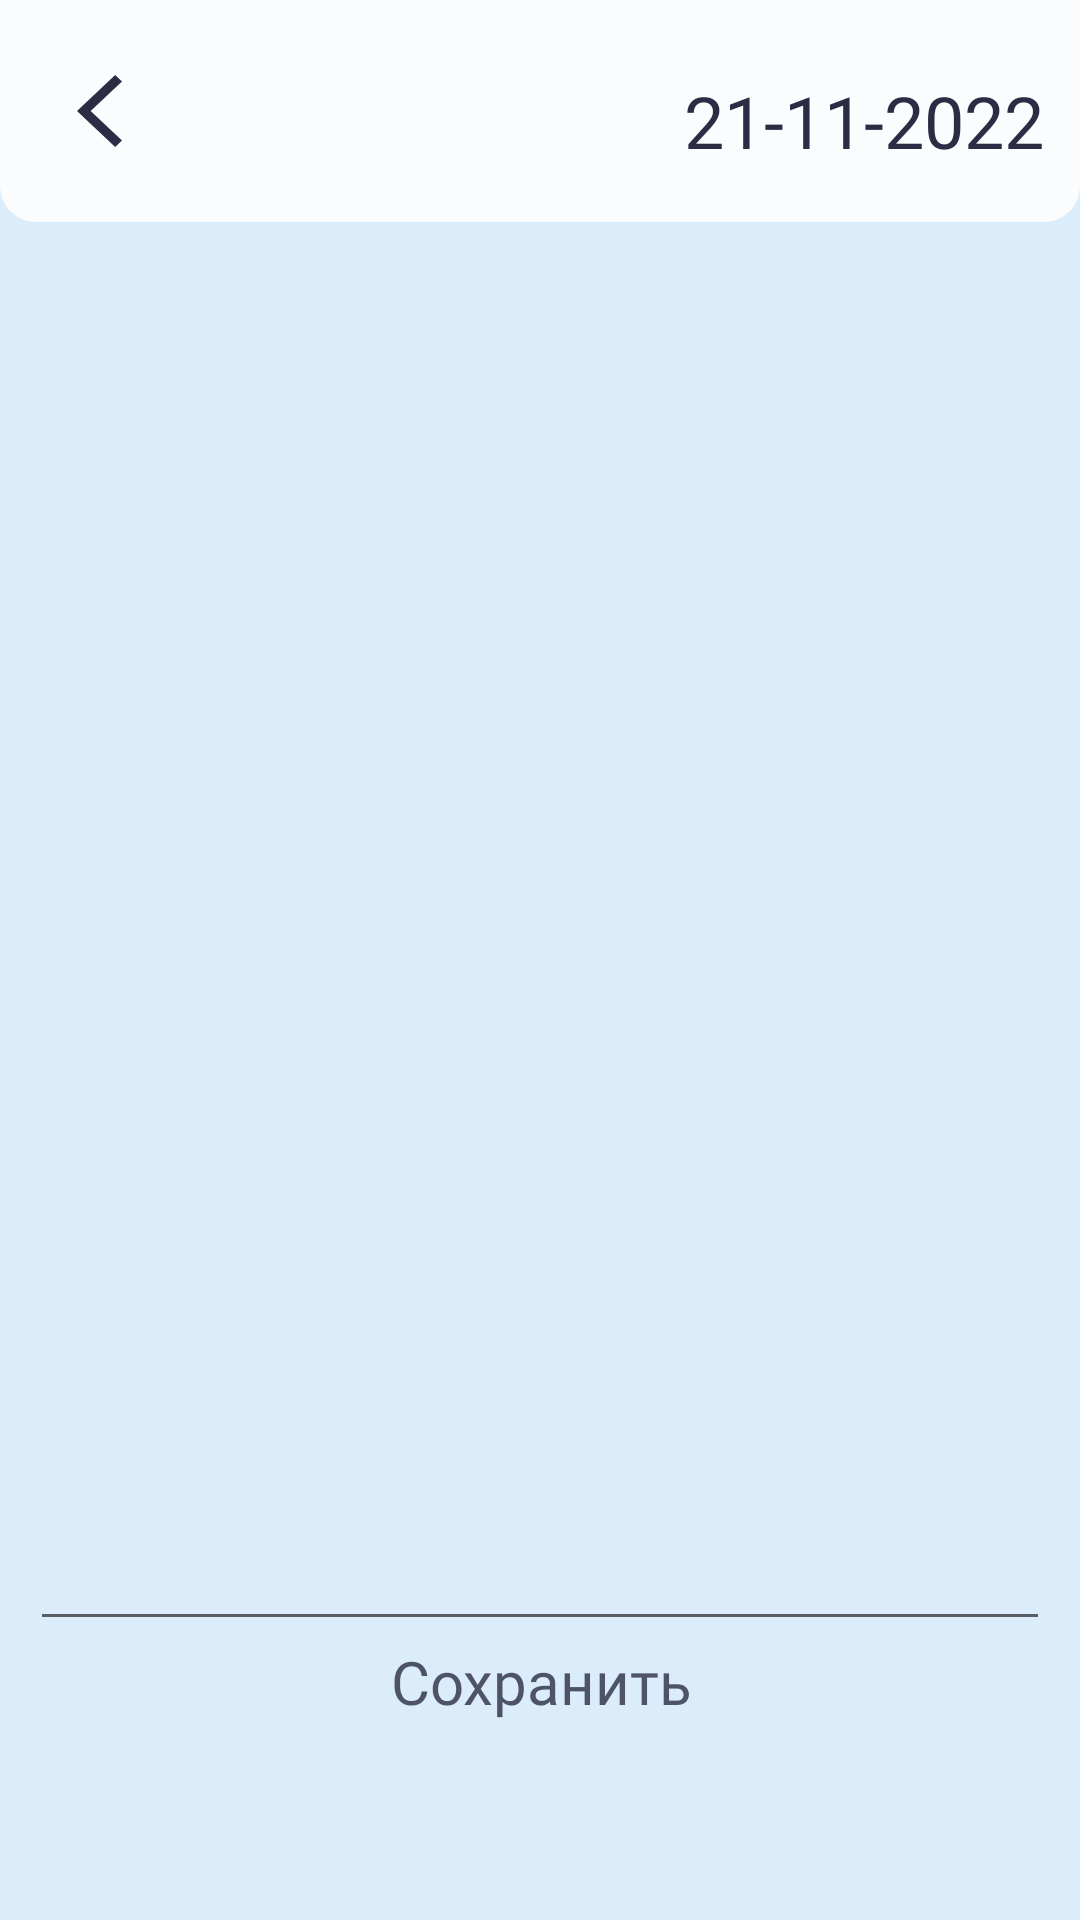

Icon bounding boxes for this 1080w x 1920h phone screenshot, format [x1=x1, y1=y1, x2=x2, y2=y2]:
back: [x1=77, y1=75, x2=122, y2=147]
